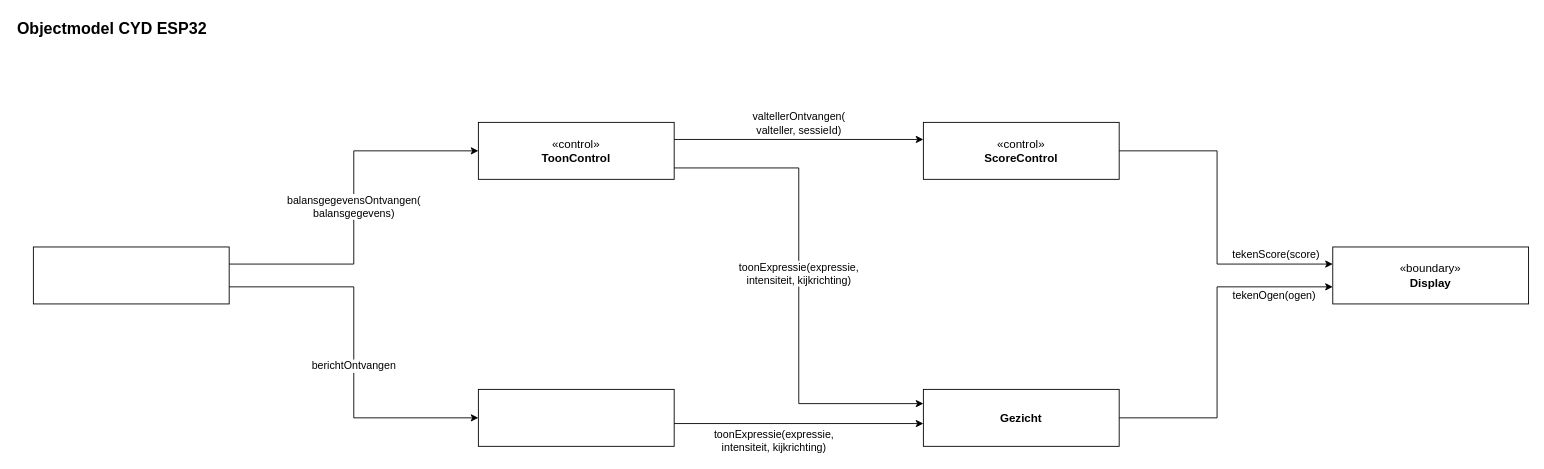
Image size: 1544x469. Some labels were removed from this diagram. The centre of each missing label's shape, as x and y in pixels:
"«boundary» RobotProxy" belongs at (x=130, y=275).
"«control» CommunicatieverliesControl" belongs at (x=575, y=417).
